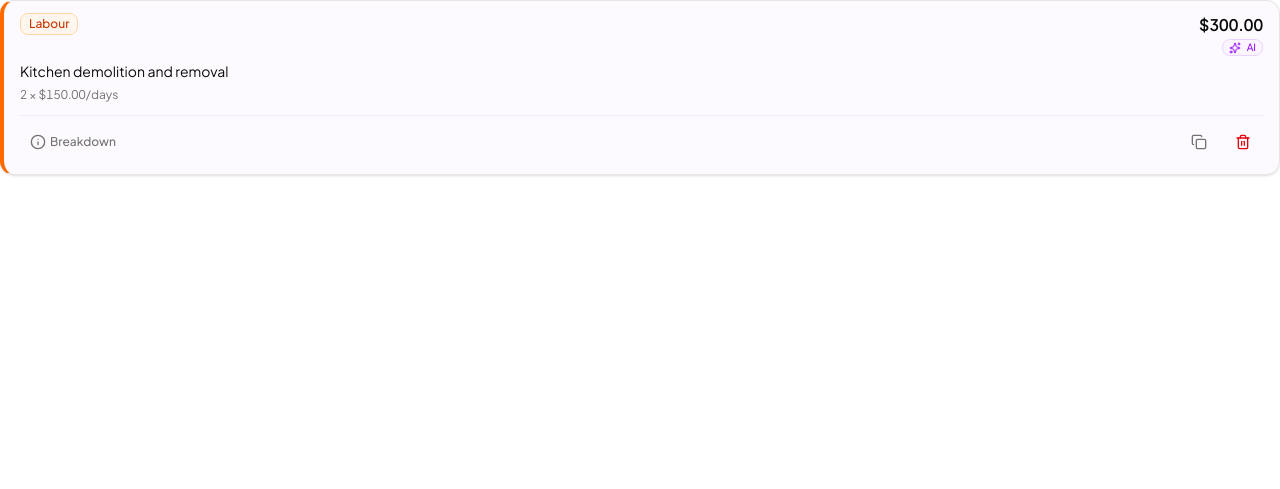
Test case: QuoteLineItemCard › transparency card › toggles transparency card on button click
The image size is (1280, 489).
expect the text "Standard kitchen area" is not shown: met
Note: Click breakdown button
Click the button with aria-label "Show price breakdown" at (73, 142), box [20,122,126,162]
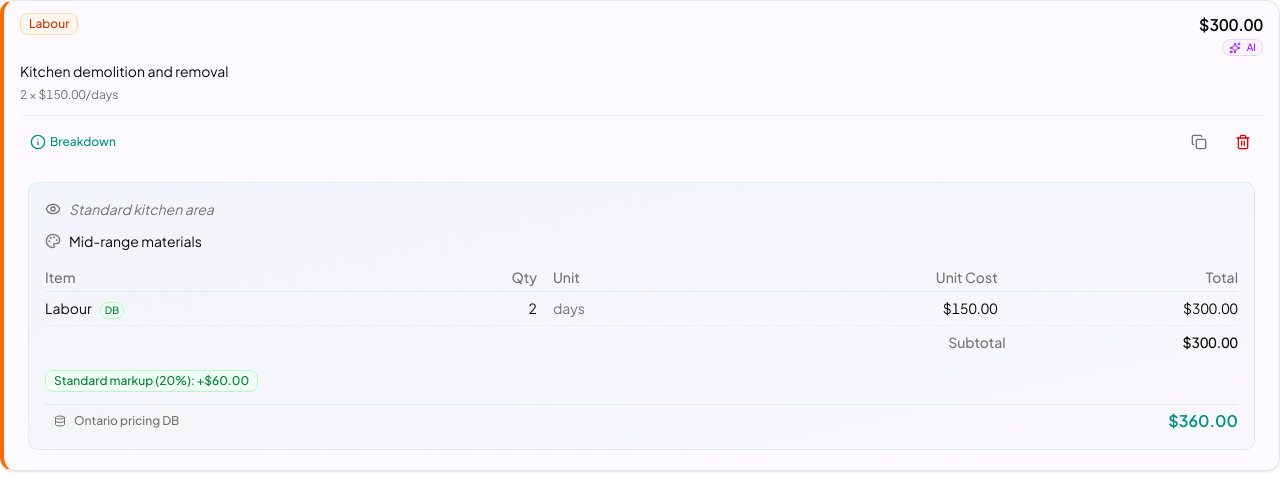
expect the text "Standard kitchen area" is shown: met, box [69,199,214,219]
